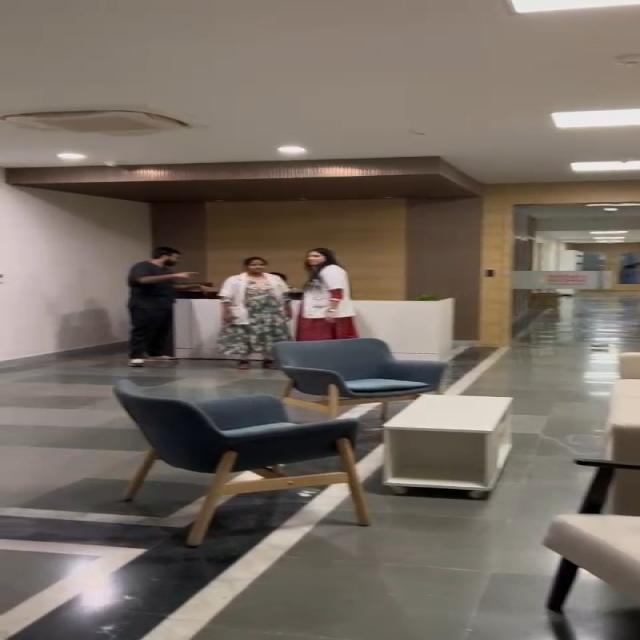door: (464, 195, 640, 362)
furniture: (99, 361, 640, 640), (350, 293, 464, 378)
moving_object: (112, 239, 345, 358)
